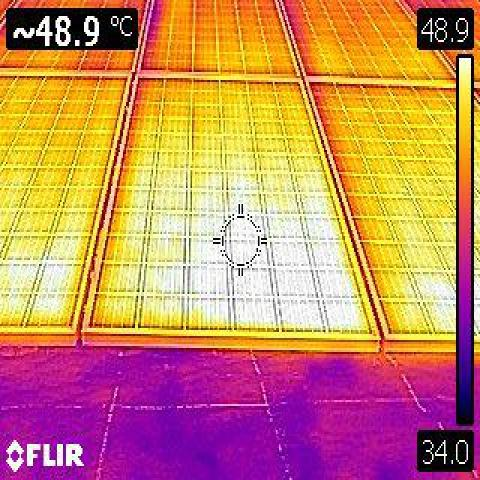fault: (276, 211, 332, 330), (7, 254, 65, 319)
